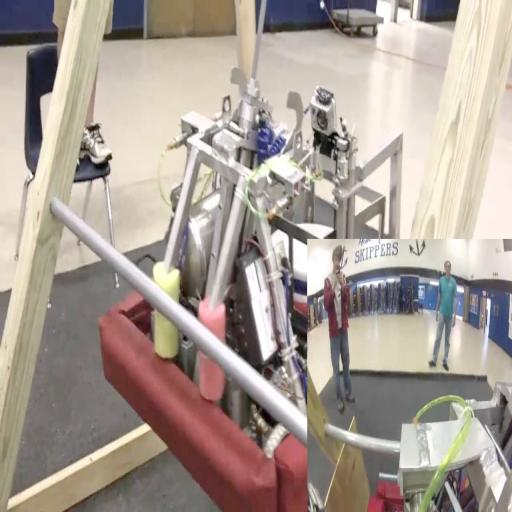robot: (98, 60, 396, 496)
